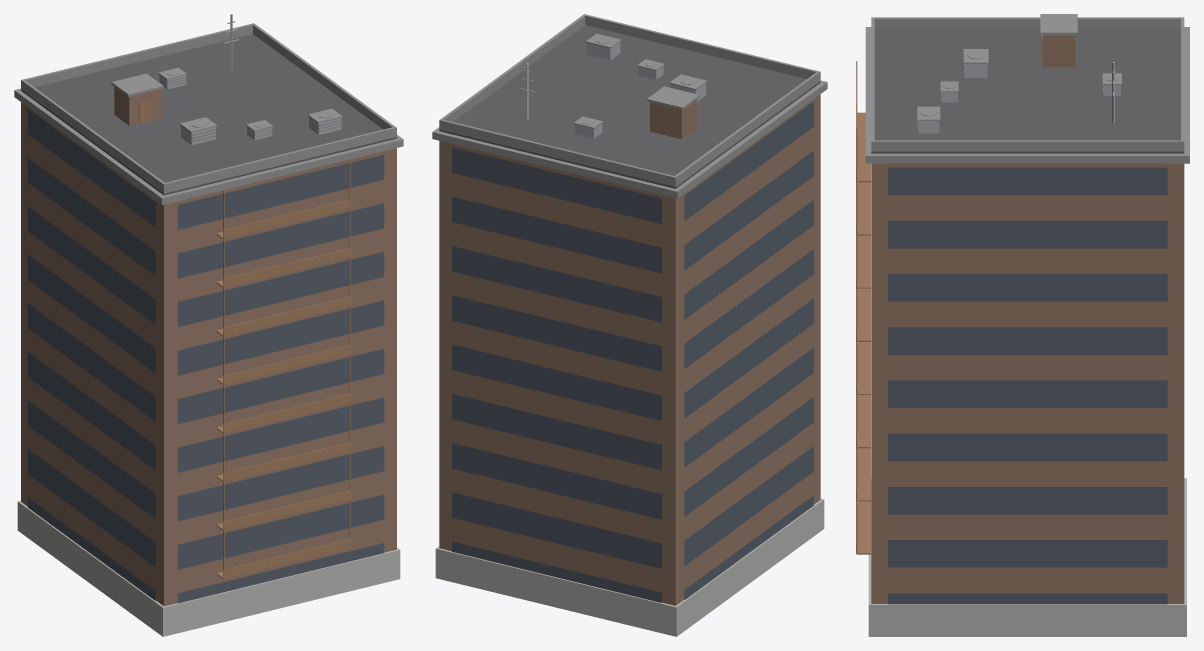
The model's file is bld_tenement_02.glb.
3 views of the same model, side by side, from view 1: azimuth 30°, elevation 25°; view 2: azimuth 150°, elevation 25°; view 3: azimuth 270°, elevation 25° (orthographic). The views are drawn at different scales.
Parts seen in each view (by area): view 1: bld_tenement_02; view 2: bld_tenement_02; view 3: bld_tenement_02.
Boxes of the visible parts, x1,y1,x2,y2 form: bld_tenement_02: (14,14,403,636); bld_tenement_02: (432,14,827,636); bld_tenement_02: (856,14,1189,636).
Bounding box in the file's own units: 16.6 × 32.6 × 18.12.
